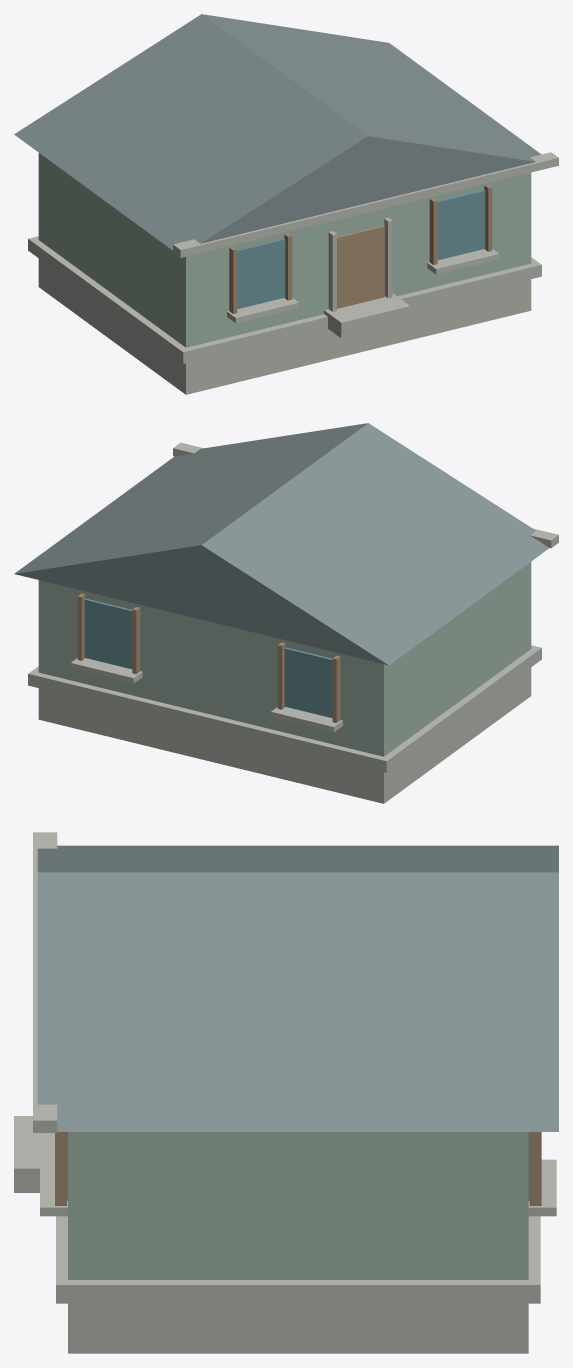
File: nord-3.glb
The picture shows the model from 3 angles, top to bottom: view 1: azimuth 30°, elevation 25°; view 2: azimuth 150°, elevation 25°; view 3: azimuth 270°, elevation 25°; orthographic projection. The views are drawn at different scales.
Size of the model in its own units: 5.04 by 2.85 by 4.02.
